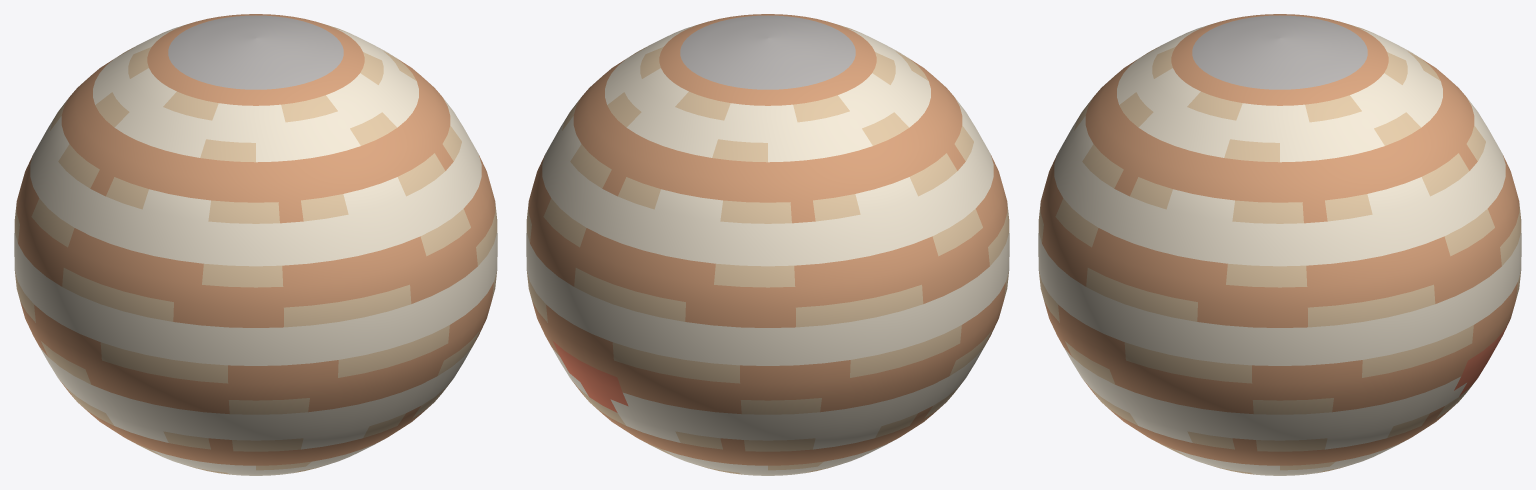
The model's file is planet-jupiter.glb.
3 views of the same model, side by side, from view 1: azimuth 30°, elevation 25°; view 2: azimuth 150°, elevation 25°; view 3: azimuth 270°, elevation 25° (orthographic).
Visible parts, largest first — view 1: Jupiter_Globe; view 2: Jupiter_Globe; view 3: Jupiter_Globe.
Boxes of the visible parts, x1,y1,x2,y2 form: Jupiter_Globe: [14, 14, 497, 475]; Jupiter_Globe: [526, 14, 1009, 475]; Jupiter_Globe: [1038, 14, 1521, 475].
Bounding box in the file's own units: 1.99 × 1.88 × 1.99.
